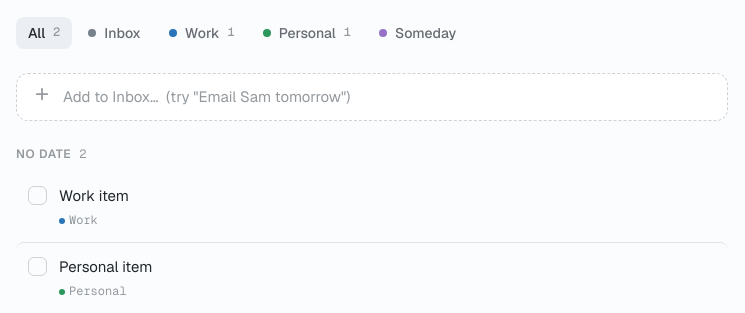
Test: Tasks › filters by list when a list tab is selected
Expected: the text "Personal item" is shown, 59,257 -> 152,276
Click the button "Work 1" at (202, 33), box 157,17 -> 247,49
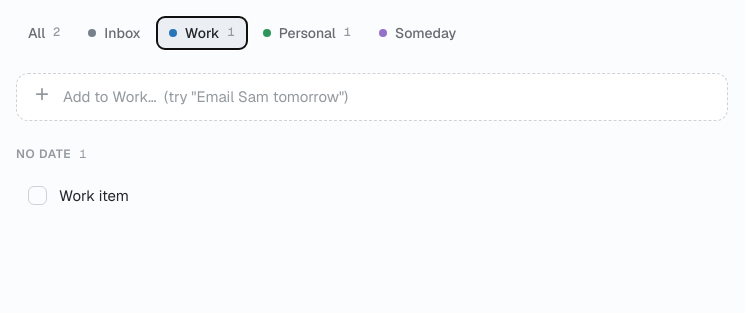
Expected: the text "Work item" is shown, 59,186 -> 129,205
Expected: the text "Personal item" is gone
